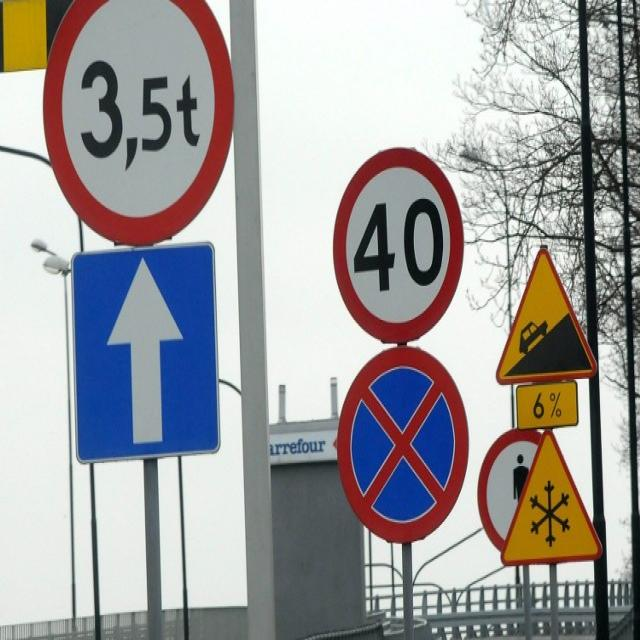Speed Limit -40-: (350, 197, 450, 294)
